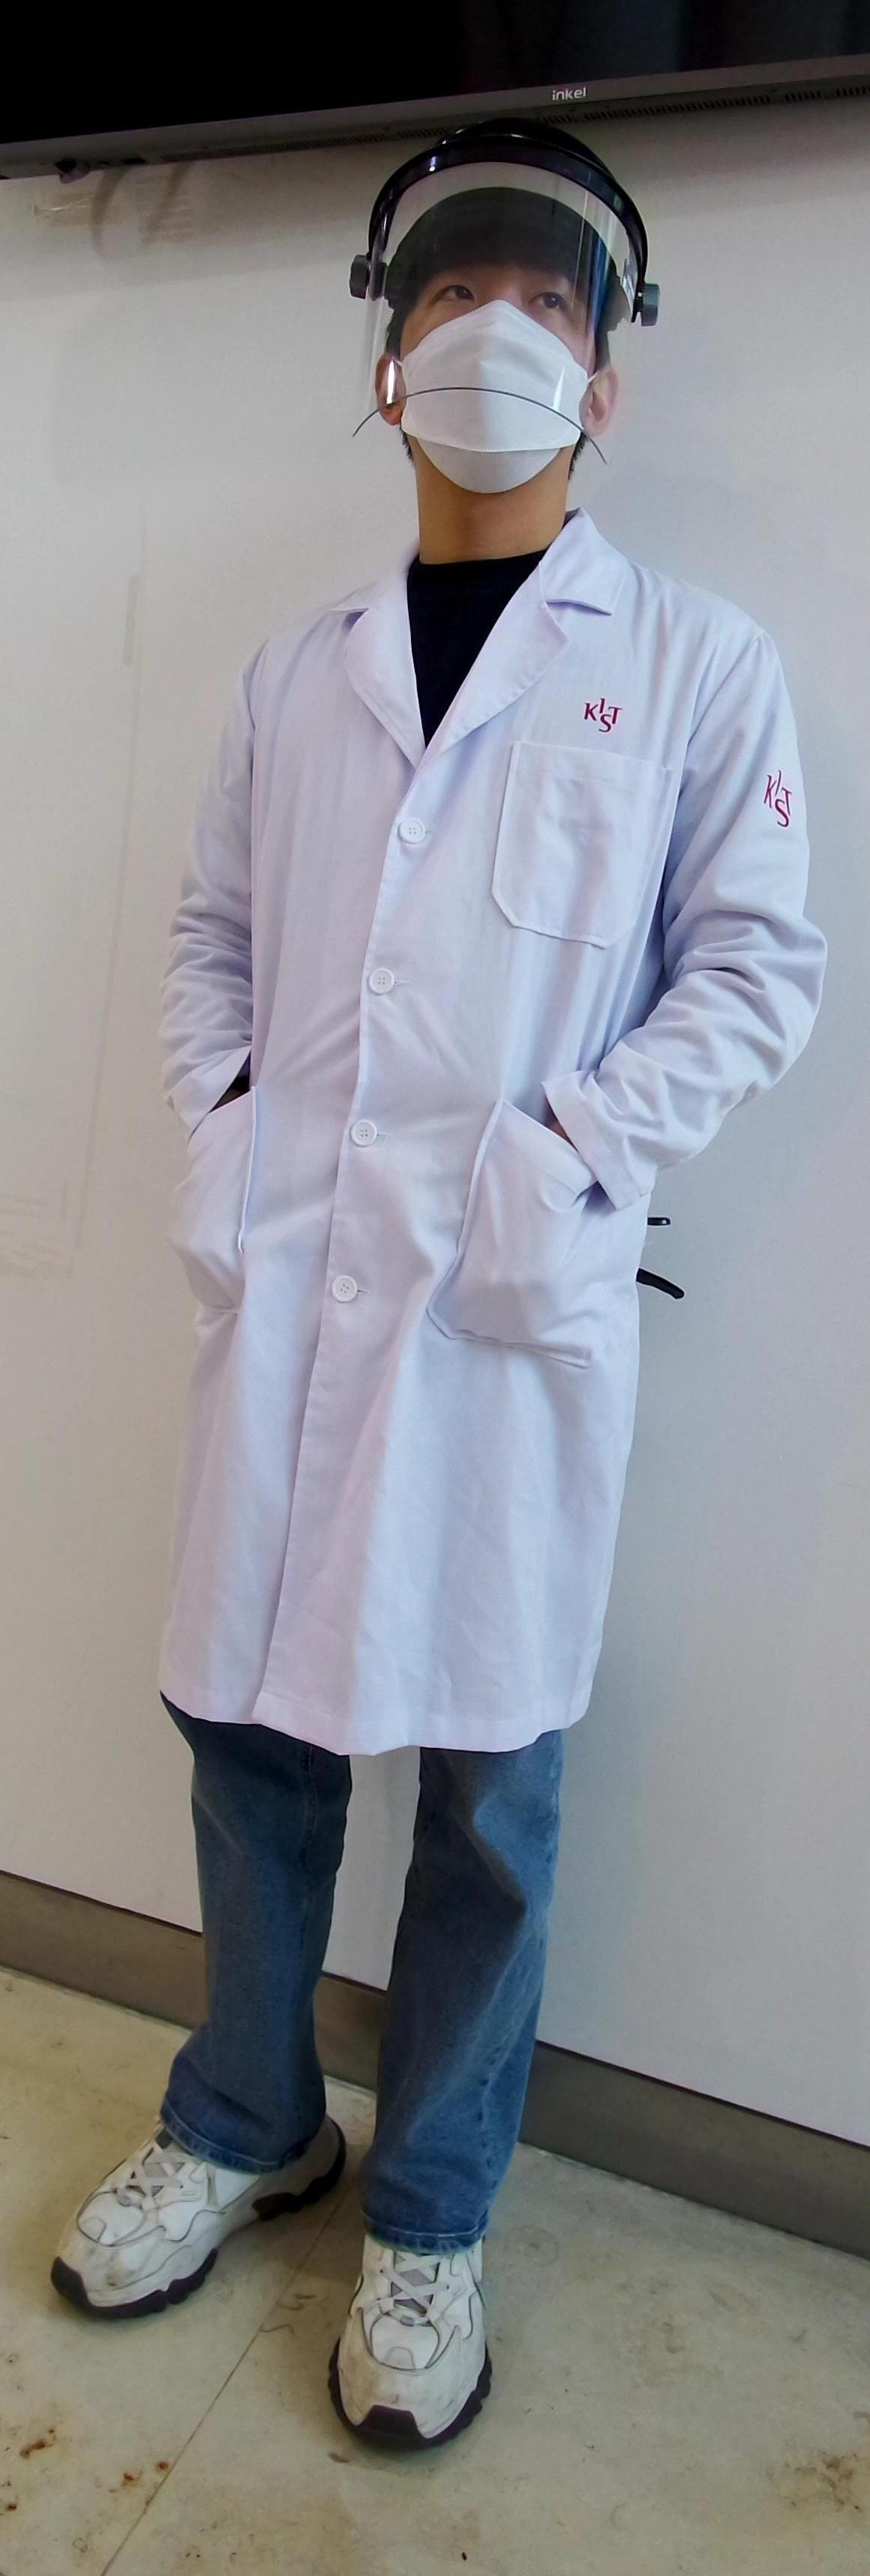lab_coat: (107, 580, 817, 1735)
